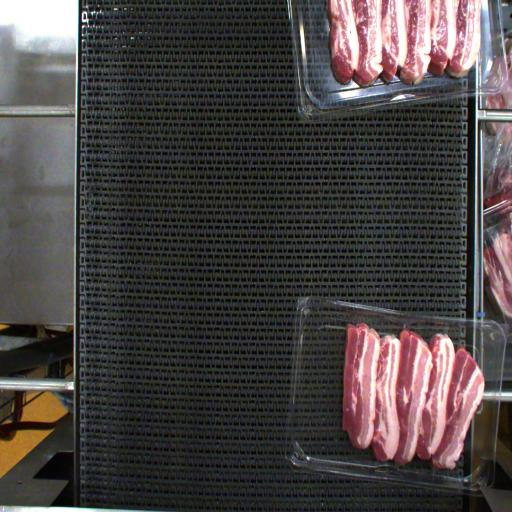packaging-error: (401, 322, 408, 333)
